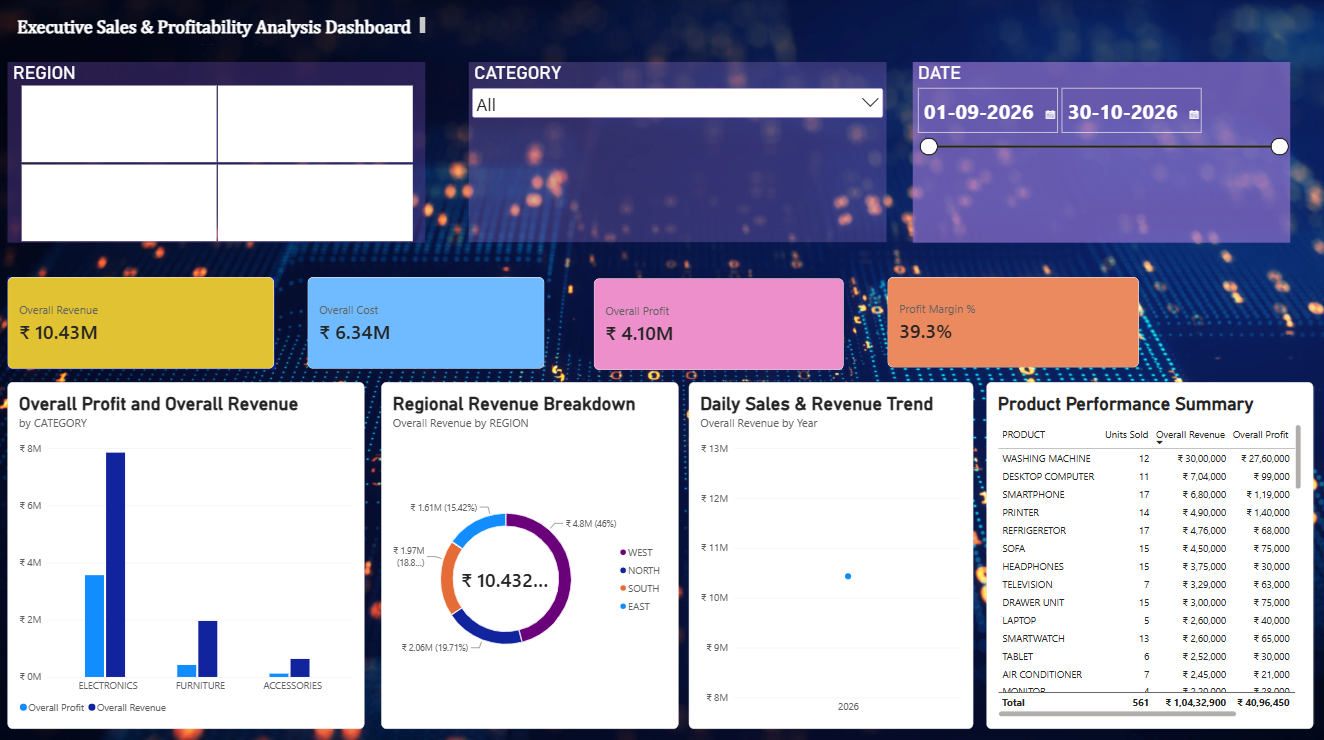

Layout of this report page (visuals, bound fields, positions):
{"tool":"powerbi","page":{"name":"Page 1","canvas":[1920,1080],"ordinal":0},"visuals":[{"type":"textbox","box":[10,29,605,39],"z":0},{"type":"slicer","fields":{"Values":["Cleaned Data.REGION"]},"box":[10.3,94.7,605.1,261.4],"z":1},{"type":"slicer","fields":{"Values":["Cleaned Data.CATEGORY"]},"box":[679.2,94.7,605,261],"z":2},{"type":"slicer","fields":{"Values":["Cleaned Data.DATE"]},"box":[1321.4,94.7,547.5,261.4],"z":3},{"type":"cardVisual","fields":{"Data":["Cleaned Data.Overall Revenue"]},"box":[10.3,405.5,387,133.8],"z":4},{"type":"cardVisual","fields":{"Data":["Cleaned Data.Overall Cost"]},"box":[444.6,405.5,343.7,133.8],"z":5},{"type":"cardVisual","fields":{"Data":["Cleaned Data.Overall Profit"]},"box":[860.4,407.5,362.3,133.8],"z":6},{"type":"cardVisual","fields":{"Data":["Cleaned Data.Profit Margin %"]},"box":[1284.4,405.5,364.3,131.7],"z":7},{"type":"lineClusteredColumnComboChart","fields":{"Category":["Cleaned Data.CATEGORY"],"Y":["Cleaned Data.Overall Profit","Cleaned Data.Overall Revenue"]},"box":[10.3,557.8,516.6,502.2],"z":8},{"type":"donutChart","title":"Regional Revenue Breakdown","fields":{"Category":["Cleaned Data.REGION"],"Y":["Cleaned Data.Overall Revenue"]},"box":[551.6,557.8,430.2,502.2],"z":9},{"type":"lineChart","title":"Daily Sales & Revenue Trend","fields":{"Category":["Cleaned Data.DATE.Variation.Date Hierarchy.Year","Cleaned Data.DATE.Variation.Date Hierarchy.Quarter","Cleaned Data.DATE.Variation.Date Hierarchy.Month","Cleaned Data.DATE.Variation.Date Hierarchy.Day"],"Y":["Cleaned Data.Overall Revenue"]},"box":[996.2,557.8,411.7,502.2],"z":10},{"type":"tableEx","title":"Product Performance Summary","fields":{"Values":["Cleaned Data.PRODUCT","Sum(Cleaned Data.QUANTITY)","Cleaned Data.Overall Revenue","Cleaned Data.Overall Profit","Cleaned Data.Profit Margin %"]},"box":[1428.5,557.8,473.4,502.2],"z":11}]}

Visuals, with their boxes in screenshot pixels (x1, y1, x2, y2), scaled from the page's 1920x1080 canvas onto the 1324x740 screenshot:
textbox: (7,20,424,47)
slicer - Cleaned Data.REGION: (7,65,424,244)
slicer - Cleaned Data.CATEGORY: (468,65,886,244)
slicer - Cleaned Data.DATE: (911,65,1289,244)
cardVisual - Cleaned Data.Overall Revenue: (7,278,274,370)
cardVisual - Cleaned Data.Overall Cost: (307,278,544,370)
cardVisual - Cleaned Data.Overall Profit: (593,279,843,371)
cardVisual - Cleaned Data.Profit Margin %: (886,278,1137,368)
lineClusteredColumnComboChart - Cleaned Data.CATEGORY x Cleaned Data.Overall Profit: (7,382,363,726)
"Regional Revenue Breakdown" donutChart: (380,382,677,726)
"Daily Sales & Revenue Trend" lineChart: (687,382,971,726)
"Product Performance Summary" tableEx: (985,382,1312,726)
